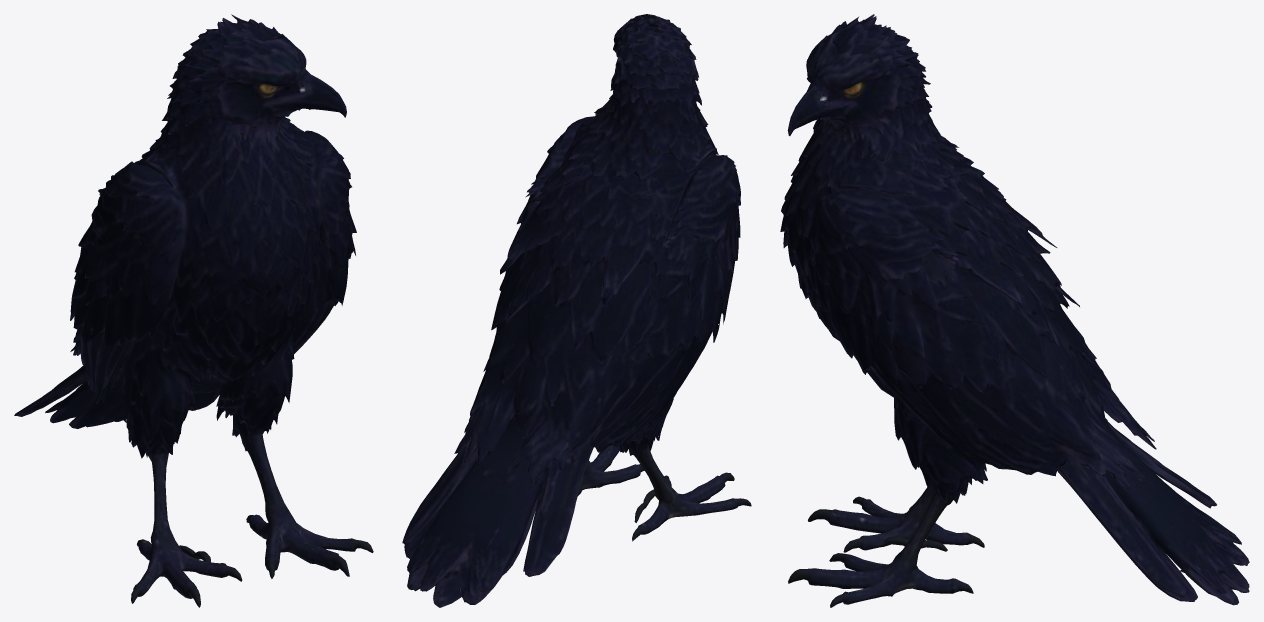
The model's file is token_crow.glb.
3 renders of one model, left to right at view 1: azimuth 30°, elevation 25°; view 2: azimuth 150°, elevation 25°; view 3: azimuth 270°, elevation 25°, orthographic. The views are drawn at different scales.
Size of the model in its own units: 0.404 by 0.8513 by 0.6613.
Materials: 1 (1 with a texture image).
